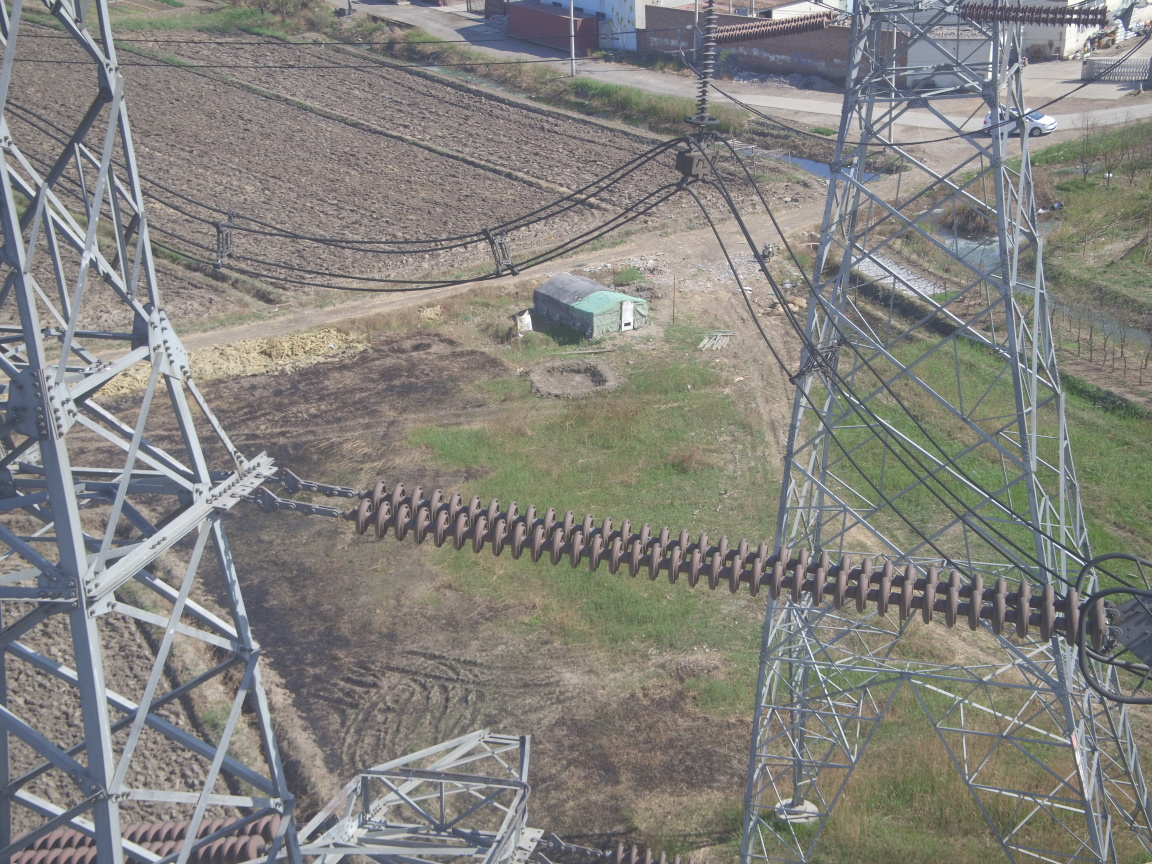insulator: (315, 479, 1121, 652), (944, 1, 1122, 28), (711, 9, 845, 43)
